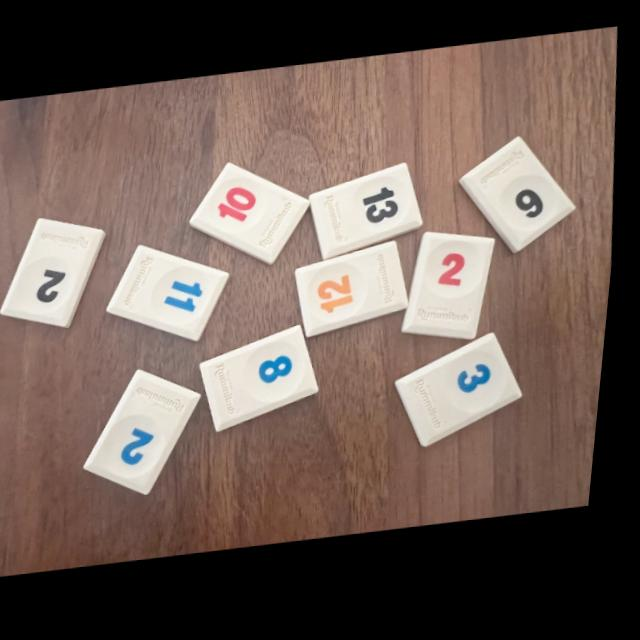black_13: (315, 167, 426, 262)
black_2: (7, 219, 110, 328)
black_6: (463, 142, 579, 258)
blue_11: (113, 246, 235, 342)
blue_2: (93, 372, 209, 496)
blue_3: (403, 338, 529, 451)
blue_8: (208, 328, 327, 434)
orange_12: (301, 246, 415, 340)
red_10: (195, 165, 314, 267)
red_2: (408, 238, 499, 344)
